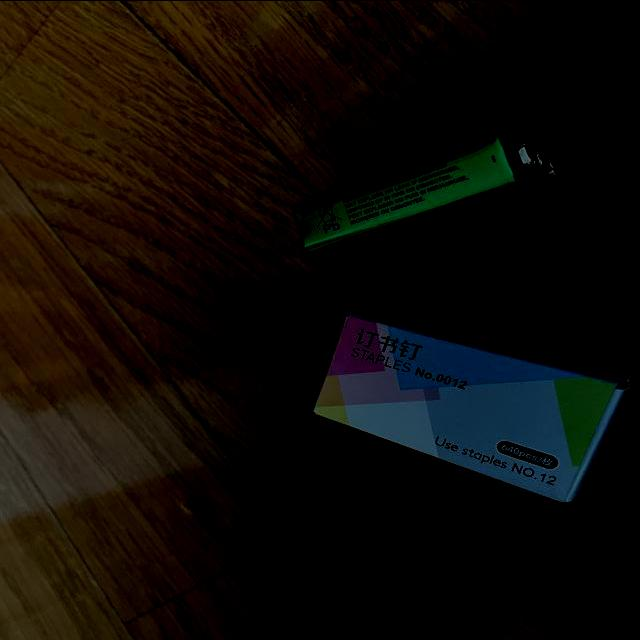9V: (290, 126, 564, 264)
